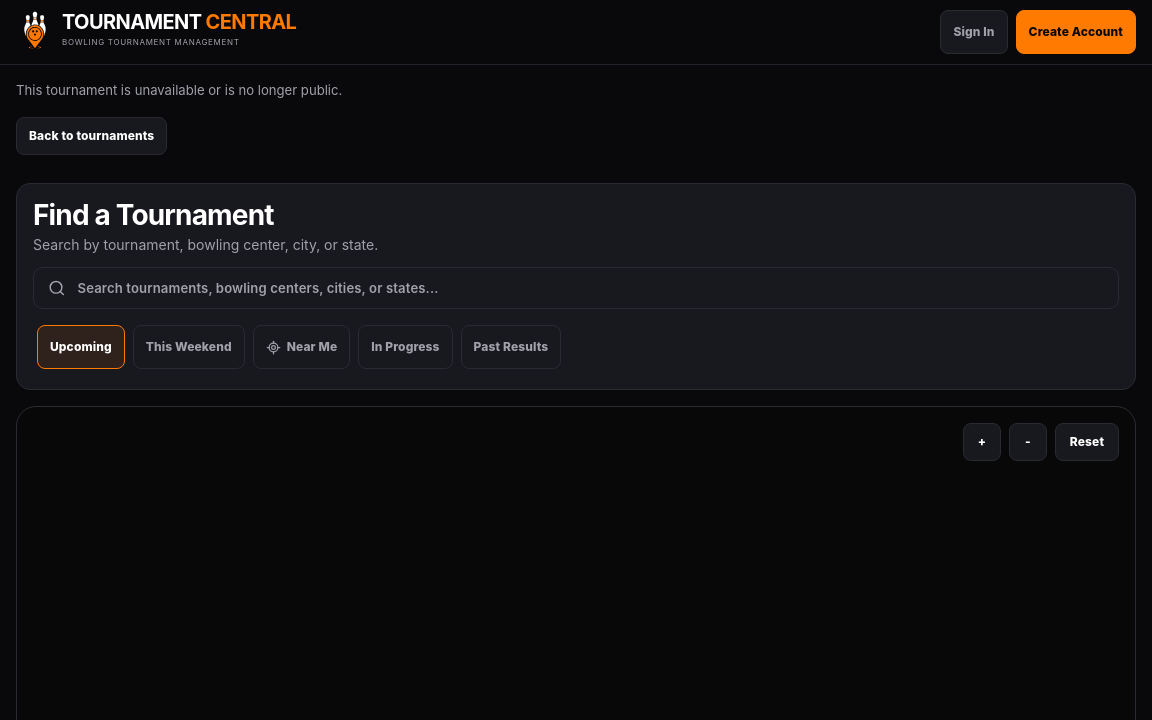
Test: public tournament discovery › explains an unavailable shared tournament (tc-404)
This screenshot has width=1152, height=720.
Expected: the message reads "This tournament is unavailable or is no longer public.", [16, 82, 342, 98]
Click the button "Back to tournaments" at (92,136), box [16, 117, 167, 155]
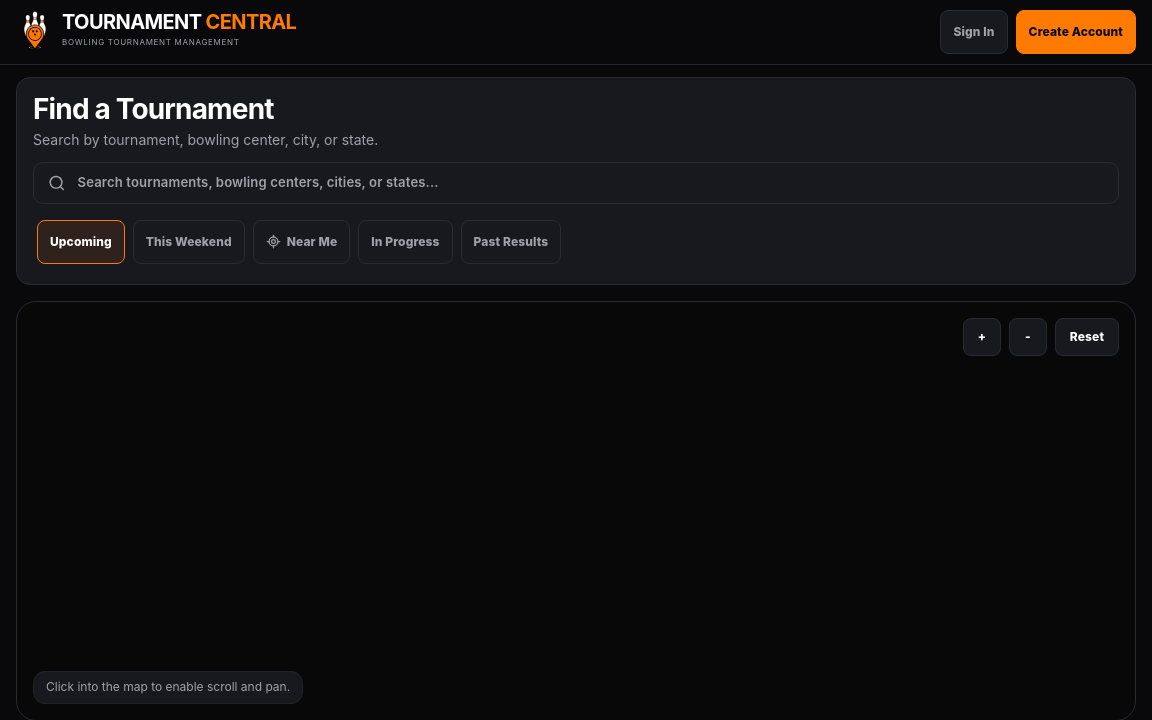
Now the message "This tournament is unavailable or is no longer public." is gone
